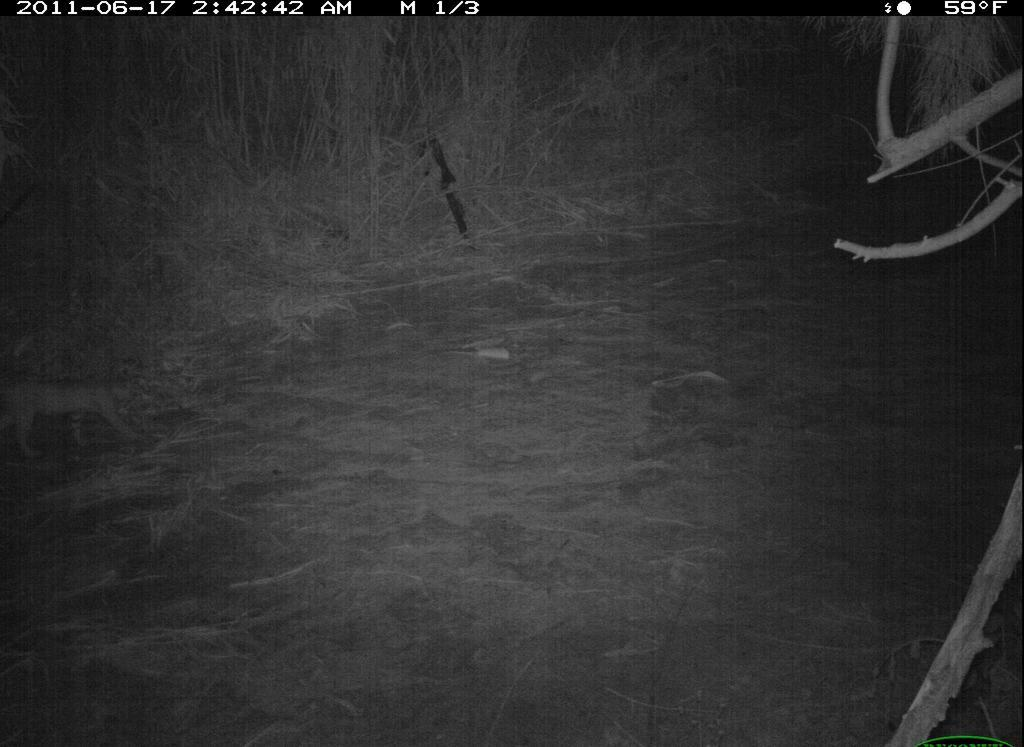bobcat: (3, 364, 157, 465)
